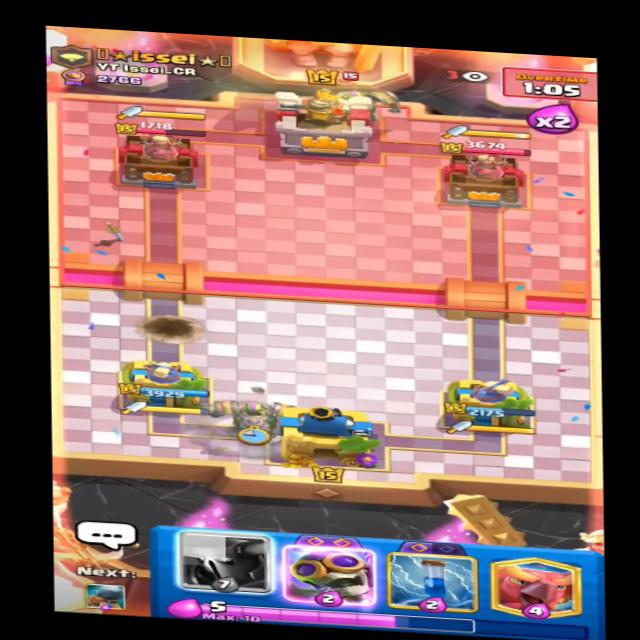goblin-machine: (308, 66, 413, 124)
